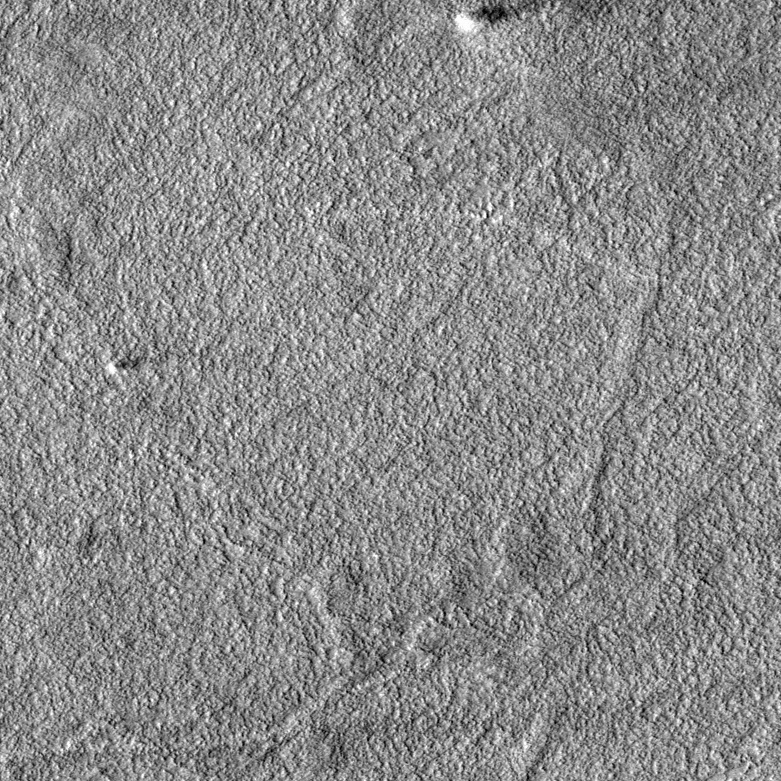dust_devil: (453, 1, 538, 36), (104, 352, 144, 376)
